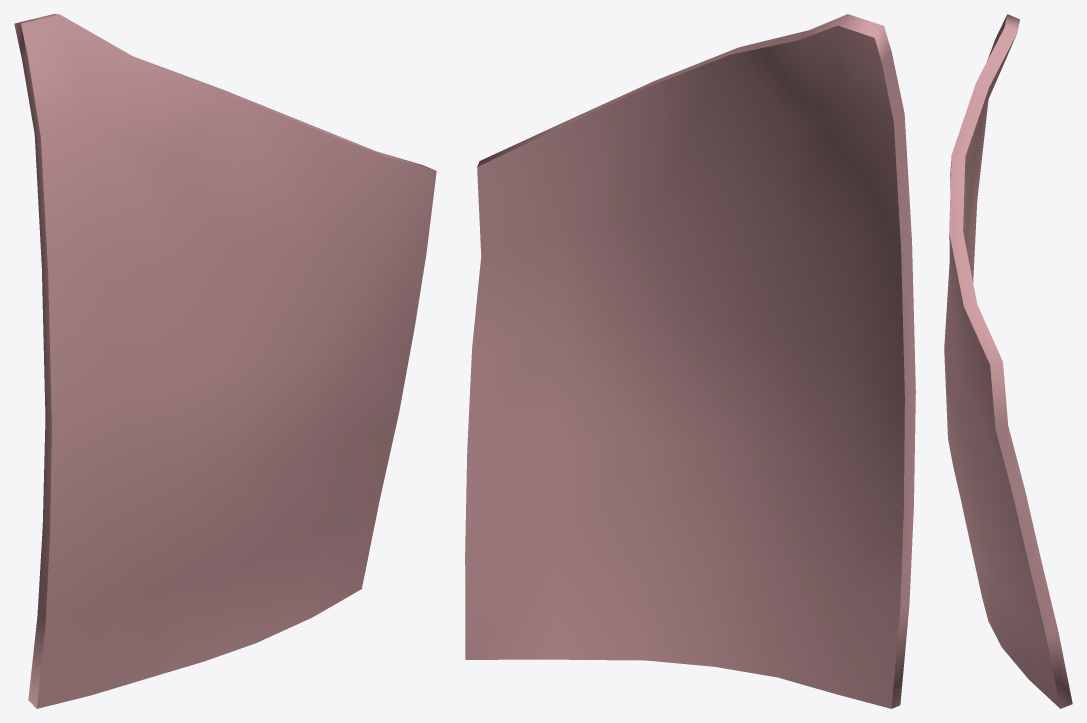
3 views of the same model, side by side, from view 1: azimuth 30°, elevation 25°; view 2: azimuth 150°, elevation 25°; view 3: azimuth 270°, elevation 25° (orthographic). The views are drawn at different scales.
Parts seen in each view (by area): view 1: ZA_18433a8c3be65589; view 2: ZA_18433a8c3be65589; view 3: ZA_18433a8c3be65589.
Boxes of the visible parts, x1,y1,x2,y2 form: ZA_18433a8c3be65589: (14, 14, 436, 708); ZA_18433a8c3be65589: (465, 14, 915, 708); ZA_18433a8c3be65589: (944, 14, 1072, 708).
Size of the model in its own units: 0.0813 by 0.1308 by 0.0277.
